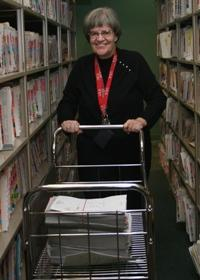person: (56, 4, 166, 214)
